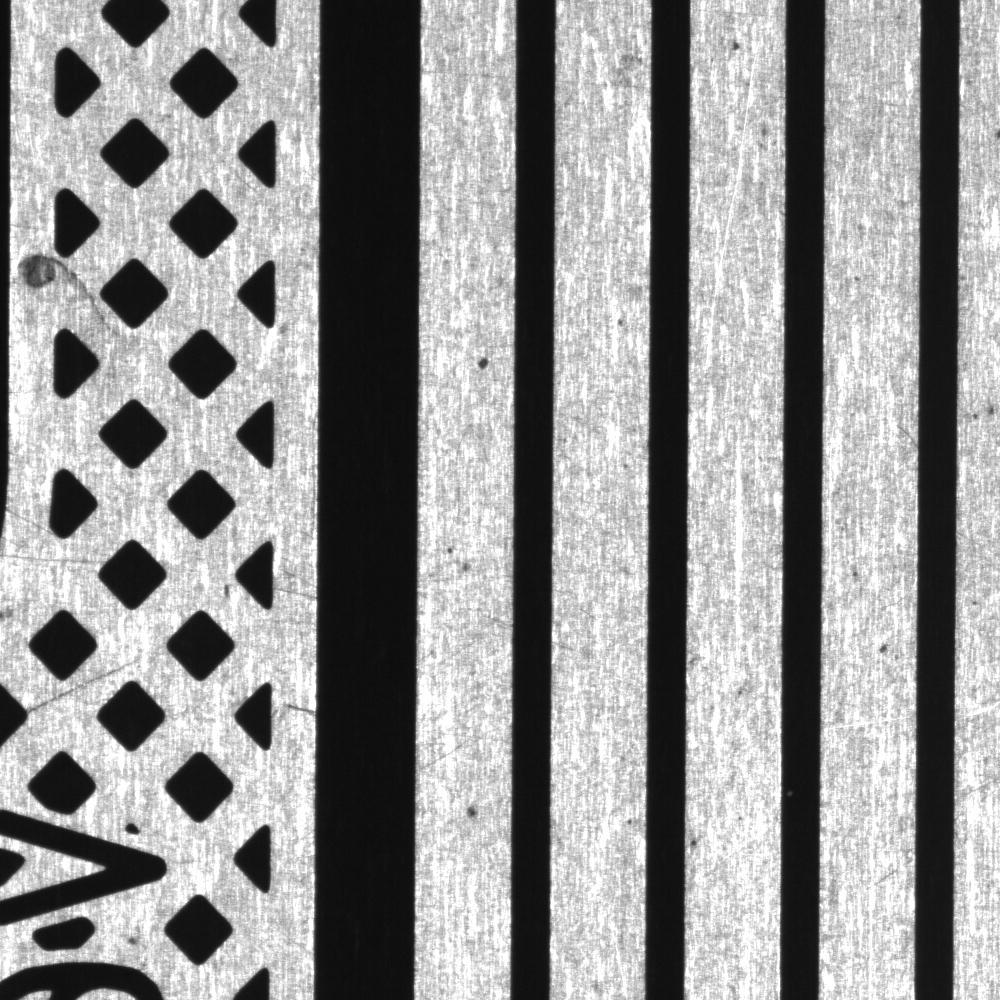Discolor: (13, 250, 107, 331), (436, 534, 458, 561)
Etching: (968, 392, 1000, 434), (470, 343, 503, 382), (724, 30, 758, 64), (458, 795, 494, 825), (873, 633, 904, 667)
Pinhole: (614, 800, 641, 834), (611, 446, 638, 479), (845, 556, 870, 587), (610, 306, 634, 336), (684, 826, 707, 856)
Scar: (25, 651, 144, 716), (418, 724, 502, 776), (275, 534, 319, 612), (1, 542, 103, 575), (863, 856, 911, 893), (6, 502, 50, 533), (277, 693, 317, 725)
